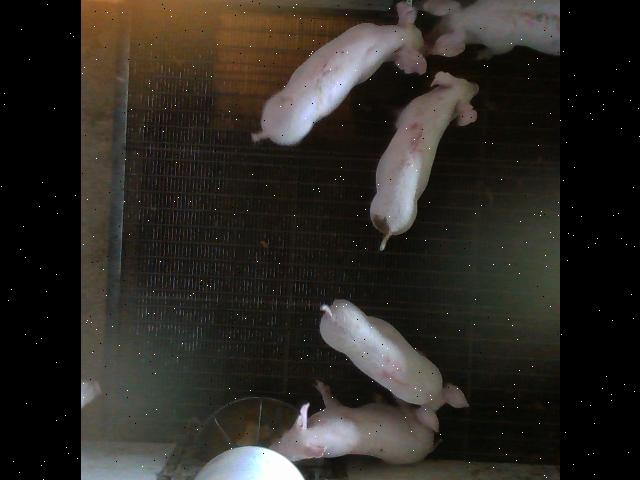pig-3: (423, 0, 560, 59)
pig-4: (319, 299, 468, 431)
pig-5: (369, 71, 478, 251)
